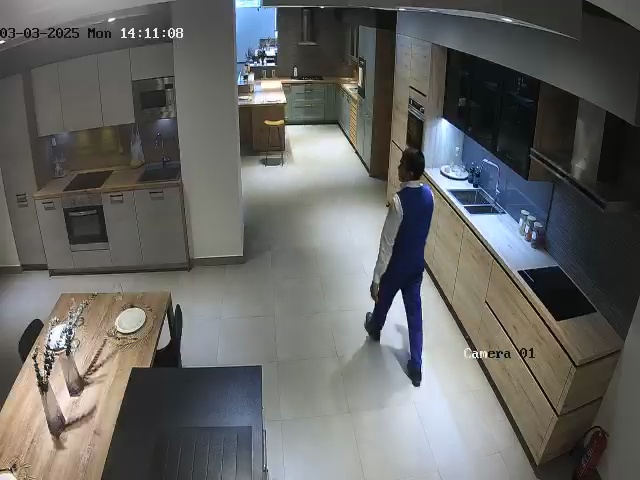employee: (364, 147, 435, 388)
